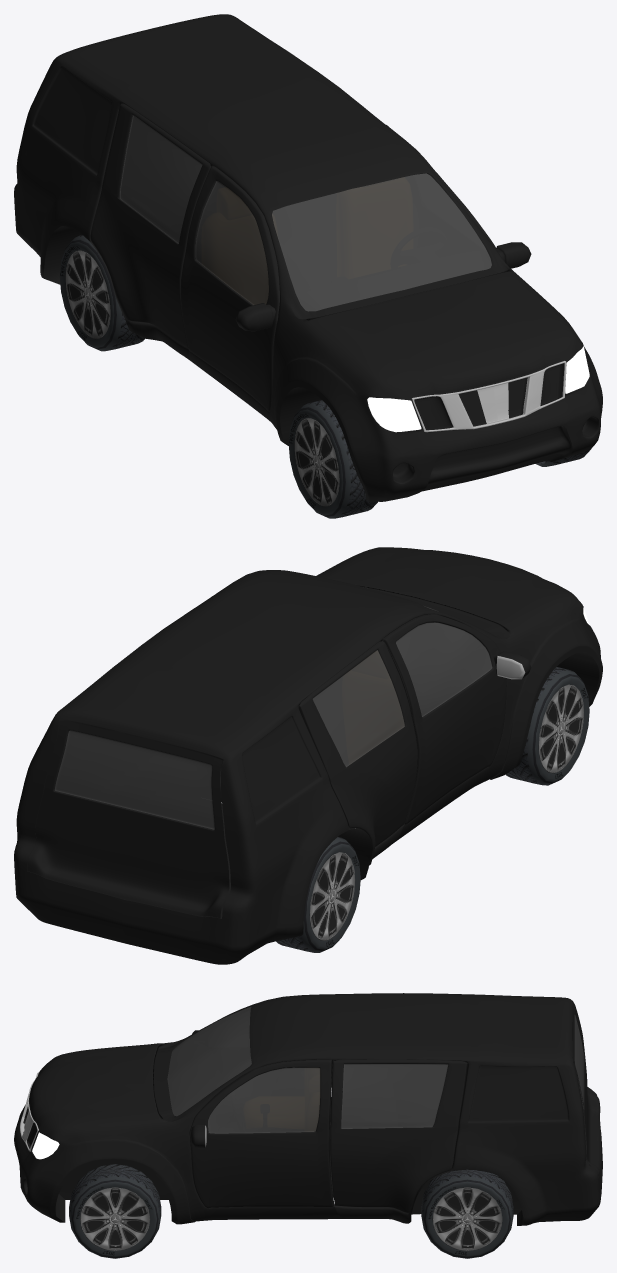
The model's file is car.glb.
3 views of the same model, one above another, from view 1: azimuth 30°, elevation 25°; view 2: azimuth 150°, elevation 25°; view 3: azimuth 270°, elevation 25° (orthographic). The views are drawn at different scales.
Parts seen in each view (by area): view 1: polySurface68; view 2: polySurface68; view 3: polySurface68.
Boxes of the visible parts, box(x1,y1,x2,y2) form: polySurface68: box(14, 14, 602, 518); polySurface68: box(14, 547, 602, 964); polySurface68: box(14, 993, 602, 1258).
Size of the model in its own units: 2.19 by 1.79 by 5.
7 materials, 1 textured.
